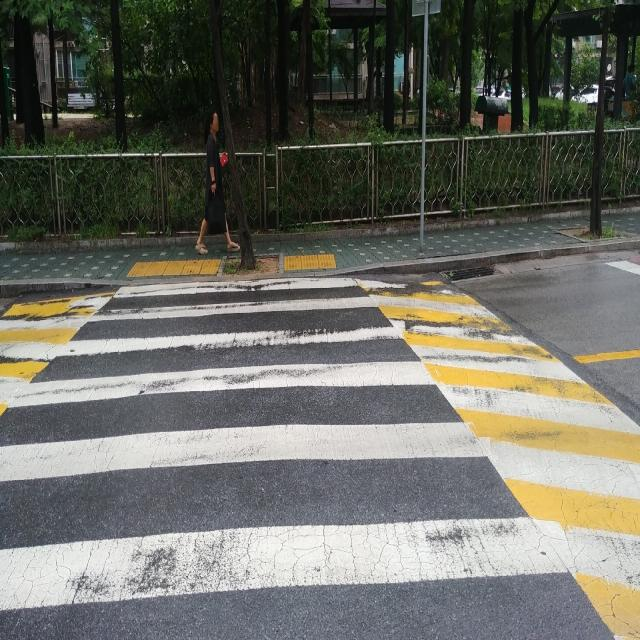횡단보도: (0, 275, 571, 618)
